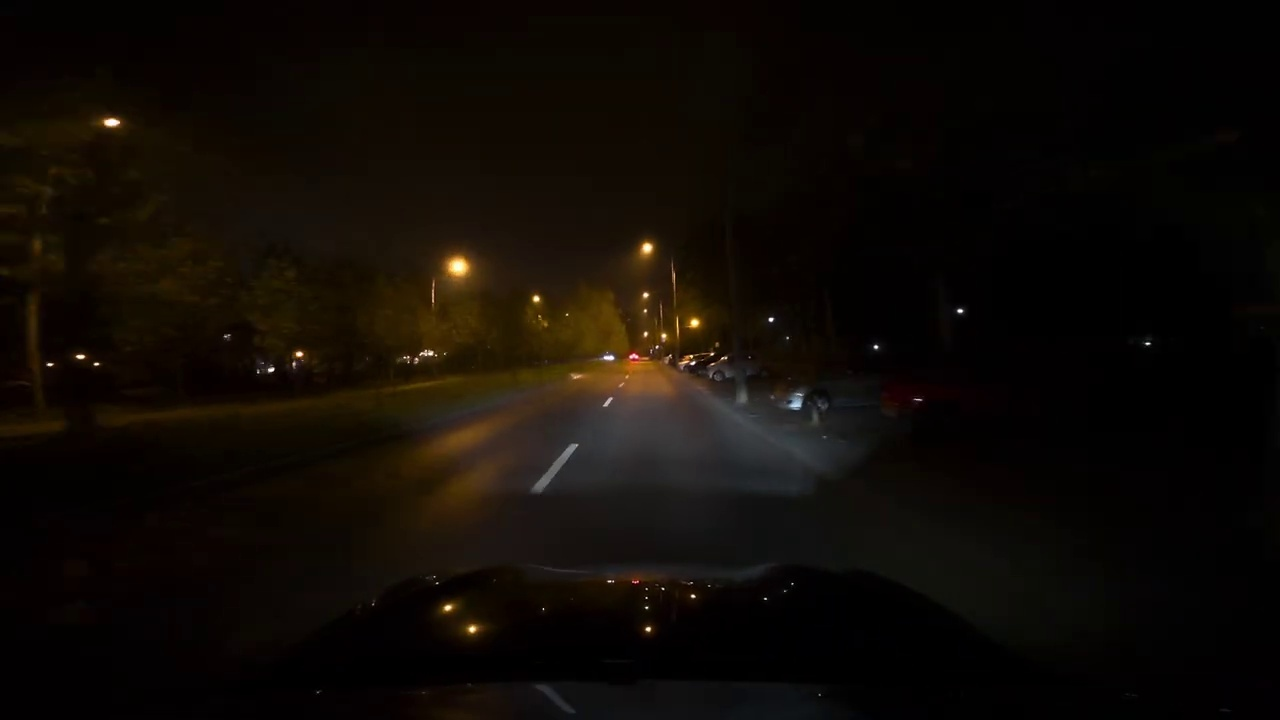acesa: (442, 254, 473, 283), (636, 239, 657, 263)
